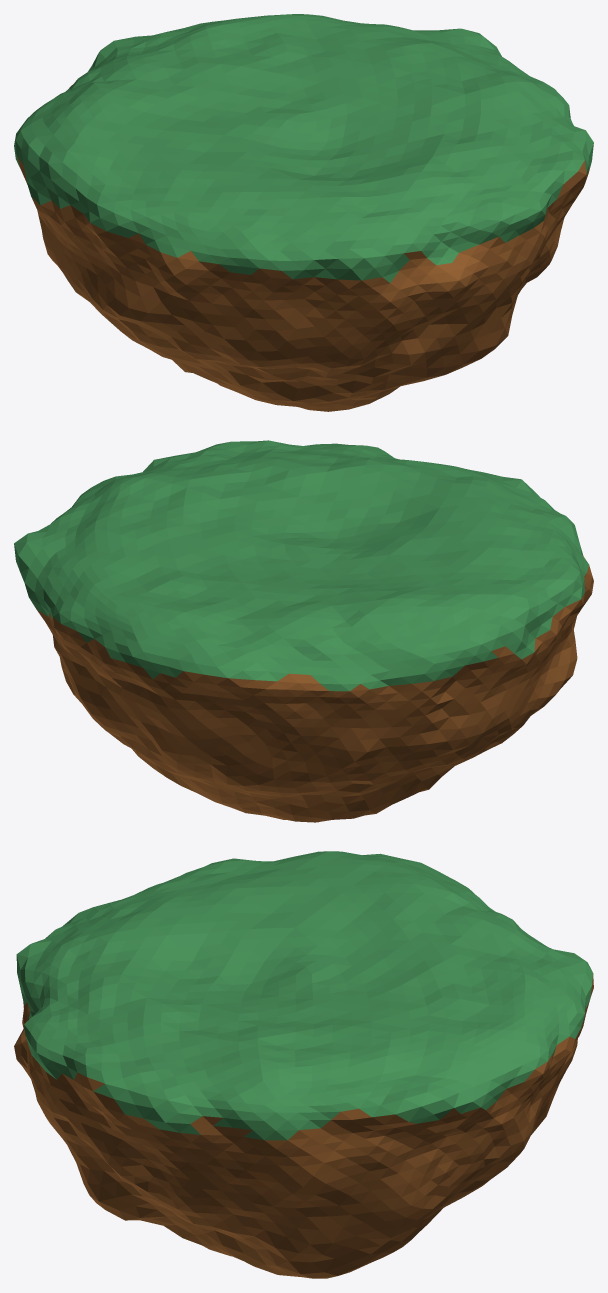
Rendered from forest_island_2fbx.fbx.
3 renders of one model, top to bottom at view 1: azimuth 30°, elevation 25°; view 2: azimuth 150°, elevation 25°; view 3: azimuth 270°, elevation 25°, orthographic. The views are drawn at different scales.
Parts seen in each view (by area): view 1: Icosphere.023; view 2: Icosphere.023; view 3: Icosphere.023.
Boxes of the visible parts, x1,y1,x2,y2 form: Icosphere.023: [14, 14, 593, 411]; Icosphere.023: [14, 440, 593, 822]; Icosphere.023: [14, 851, 593, 1278].
Size of the model in its own units: 4810 by 2703 by 4823.
